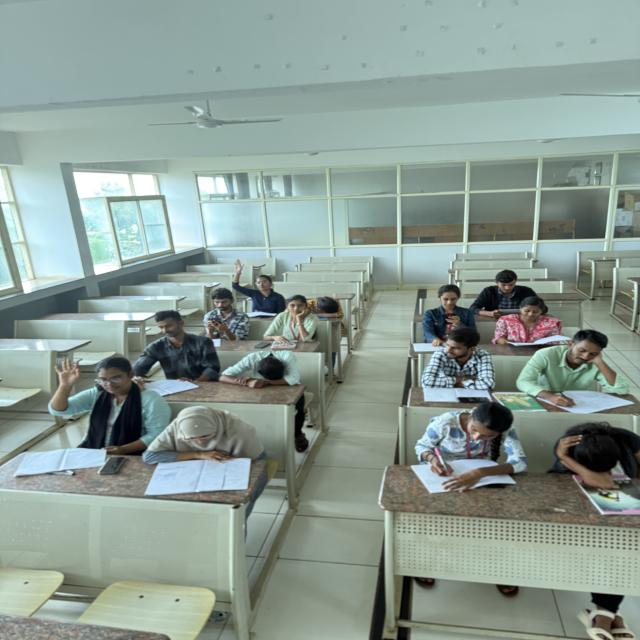Hand Rising: (38, 330, 165, 454), (225, 251, 286, 322)
Reading: (145, 371, 263, 528), (484, 296, 590, 356), (468, 252, 551, 322)
Sleeping: (548, 413, 640, 483), (218, 351, 323, 401)
Using Phone: (401, 281, 493, 357), (201, 288, 249, 348)
Writing: (407, 397, 534, 493), (515, 332, 631, 414)
